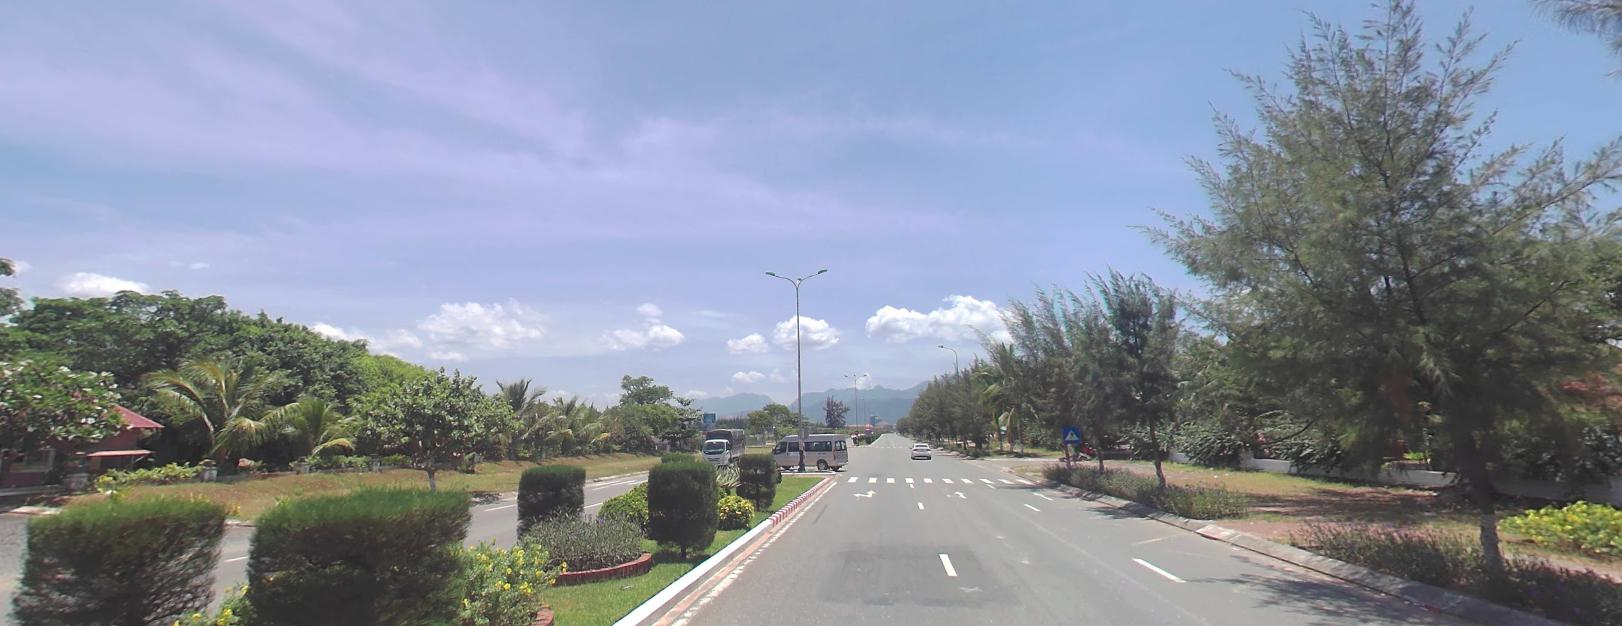Cam nguoc chieu: (854, 429, 858, 433)
